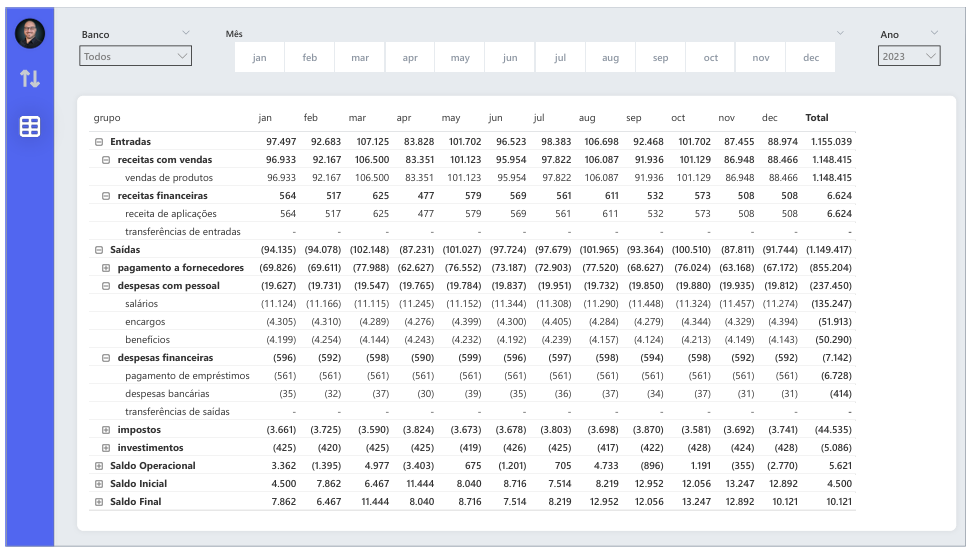

What the dashboard file says about the page in this screenshot:
{"tool":"powerbi","page":{"name":"Página 1","canvas":[1280,720],"ordinal":0},"visuals":[{"type":"pivotTable","fields":{"Rows":["dim_grupos.grupo","gold vw_dim_plano_contas.subgrupo_nome","gold vw_dim_plano_contas.conta_nome"],"Values":["_medidas.fluxo"],"Columns":["gold vw_dim_calendario.mes_nome_abrev"]},"box":[30.2,144.5,1159.1,522.4],"z":0},{"type":"slicer","fields":{"Values":["gold vw_dim_bancos.banco_nome"]},"box":[0,22,192.5,92.6],"z":1000},{"type":"slicer","fields":{"Values":["gold vw_dim_calendario.mes_nome_abrev"]},"box":[192.5,22,962.4,92.6],"z":2000},{"type":"slicer","fields":{"Values":["gold vw_dim_calendario.ano"]},"box":[1154.9,22,124.9,92.6],"z":3000}]}

Visuals, with their boxes on the page's 1280x720 design canvas (x1, y1, x2, y2). These are canvas units, not pixel positions in the 975x555 screenshot, which may show the page scaled, cropped or inside an application window:
pivotTable - dim_grupos.grupo x gold vw_dim_plano_contas.subgrupo_nome: Rect(30, 144, 1189, 667)
slicer - gold vw_dim_bancos.banco_nome: Rect(0, 22, 192, 115)
slicer - gold vw_dim_calendario.mes_nome_abrev: Rect(192, 22, 1155, 115)
slicer - gold vw_dim_calendario.ano: Rect(1155, 22, 1280, 115)
